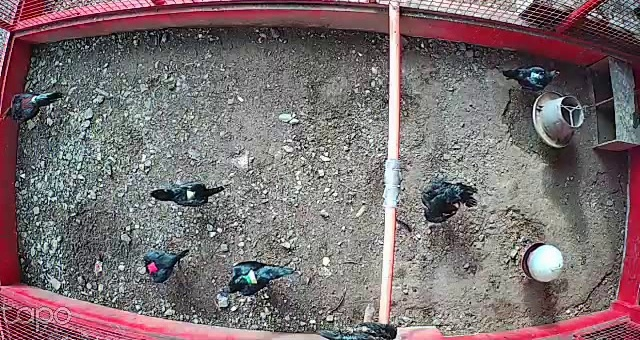Chicken: (418, 178, 484, 224), (147, 175, 227, 209), (224, 258, 293, 296), (498, 63, 561, 99), (138, 246, 188, 286)
Rooster: (0, 82, 62, 129)
Saddle_Color_Red: (147, 261, 158, 275)
Saddle_Color_Yellow: (186, 189, 194, 200)
Saddle_Color_YellowGreen: (243, 269, 257, 284)
